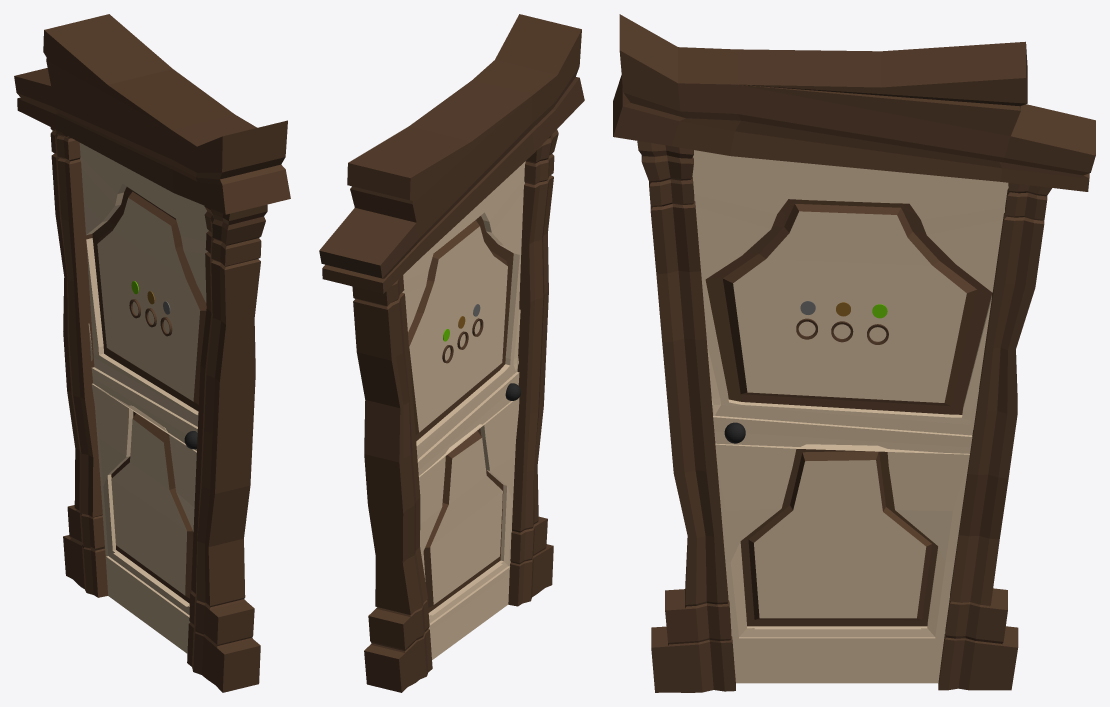
The model's file is Porte.fbx.
3 views of the same model, side by side, from view 1: azimuth 30°, elevation 25°; view 2: azimuth 150°, elevation 25°; view 3: azimuth 270°, elevation 25° (orthographic). The views are drawn at different scales.
Parts seen in each view (by area): view 1: Cube.004; view 2: Cube.004; view 3: Cube.004.
Part boxes in pixels (x1=…): Cube.004: x1=14, y1=14, x2=290, y2=692; Cube.004: x1=319, y1=14, x2=584, y2=692; Cube.004: x1=613, y1=14, x2=1095, y2=692.
Bounding box in the file's own units: 33.92 × 284 × 191.
